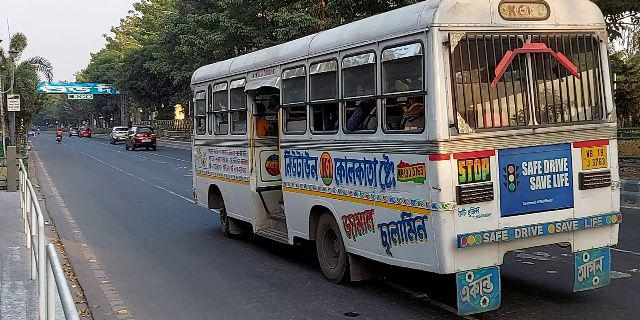Bus: (190, 1, 618, 308)
Car: (122, 123, 160, 154), (108, 124, 128, 144)
